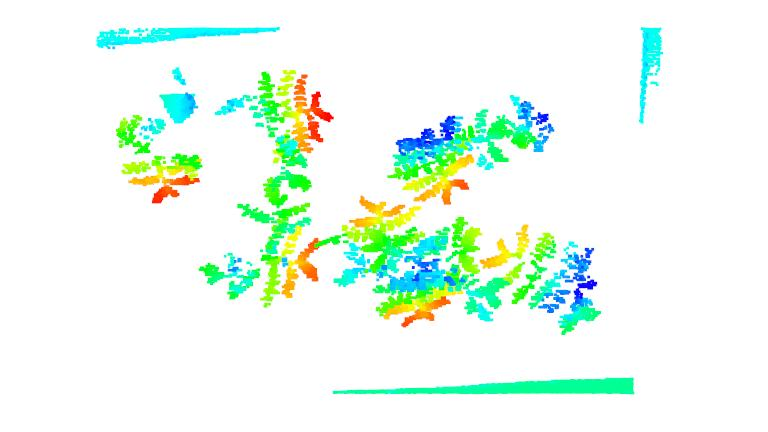chickpea: (200, 168, 313, 300), (484, 227, 611, 333), (377, 222, 490, 332), (217, 63, 337, 155), (317, 188, 422, 286), (106, 110, 202, 206), (384, 111, 479, 201), (474, 97, 563, 178)
